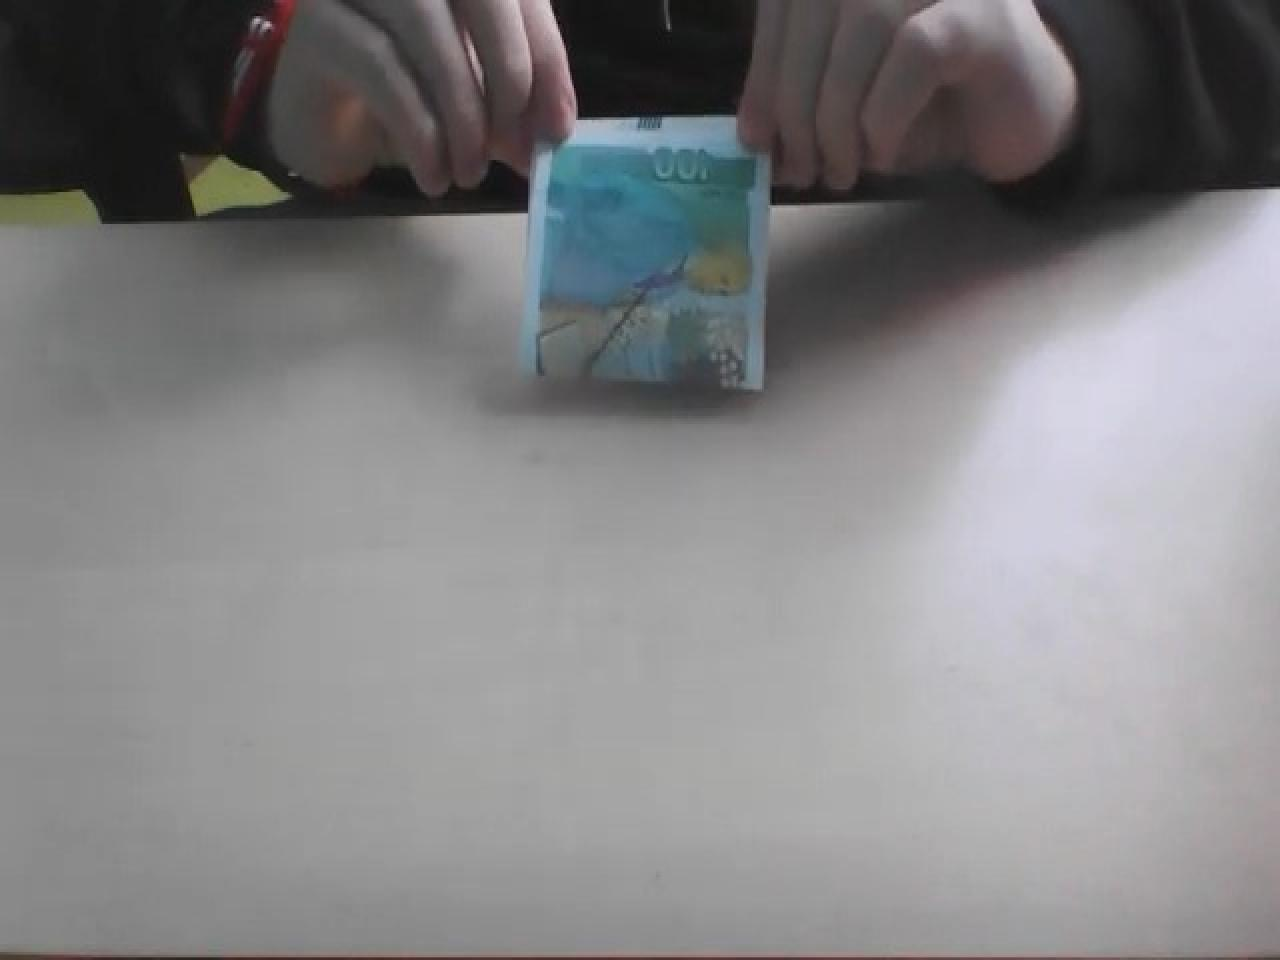100leva: (522, 115, 770, 394)
